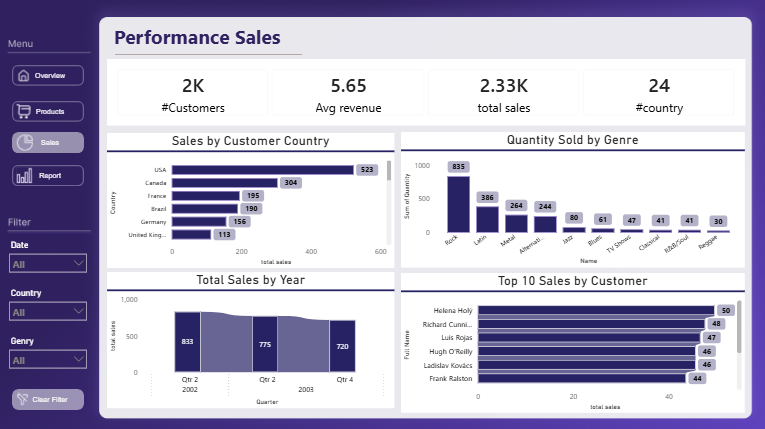

Layout of this report page (visuals, bound fields, positions):
{"tool":"powerbi","page":{"name":"Sales","canvas":[1280,720],"ordinal":2},"visuals":[{"type":"actionButton","box":[19.2,220.8,120,35.4],"z":0},{"type":"actionButton","box":[20,107.7,120,34.6],"z":1000},{"type":"actionButton","box":[20,167.7,120,34.6],"z":2000},{"type":"actionButton","box":[19.2,274.6,120,35.4],"z":3000},{"type":"actionButton","box":[19.2,648.3,120,35],"z":4000},{"type":"textbox","box":[184.3,32.9,358.6,65.7],"z":5000},{"type":"ribbonChart","title":"Total Sales by Year","fields":{"Category":["employee.HireDate.Variation.Date Hierarchy.Year","employee.HireDate.Variation.Date Hierarchy.Quarter"],"Y":["Dax Measures.total sales"]},"box":[179,454,479,227],"z":6000},{"type":"barChart","title":"Sales by Customer Country","fields":{"Category":["customer.Country"],"Y":["Dax Measures.total sales"]},"box":[179,221,479,225],"z":7000},{"type":"columnChart","title":"Quantity Sold by Genre","fields":{"Category":["genre.Name"],"Y":["Sum(invoiceline.Quantity)"]},"box":[668.6,220,572.9,225.7],"z":8000},{"type":"barChart","title":"Top 10 Sales by Customer","fields":{"Category":["customer.Full Name"],"Y":["Dax Measures.total sales"]},"box":[668.6,454.3,572.9,232.9],"z":9000},{"type":"cardVisual","fields":{"Data":["Dax Measures.#Customers","Dax Measures.Avg revenue","Dax Measures.total sales","Dax Measures.#country"]},"box":[178.6,98.6,1064.3,111.4],"z":10000},{"type":"slicer","fields":{"Values":["employee.HireDate.Variation.Date Hierarchy.Year","employee.HireDate.Variation.Date Hierarchy.Month","employee.HireDate.Variation.Date Hierarchy.Day"]},"box":[5,395,150,66.7],"z":11000},{"type":"slicer","fields":{"Values":["invoice.BillingCountry"]},"box":[5.7,475.7,150,67.1],"z":12000},{"type":"slicer","fields":{"Values":["genre.Name"]},"box":[5.7,555.7,150,62.9],"z":13000}]}

Visuals, with their boxes in screenshot pixels (x1, y1, x2, y2), scaled from the page's 1280x720 canvas onto the 765x429 screenshot:
actionButton: rect(11, 132, 83, 153)
actionButton: rect(12, 64, 84, 85)
actionButton: rect(12, 100, 84, 121)
actionButton: rect(11, 164, 83, 185)
actionButton: rect(11, 386, 83, 407)
textbox: rect(110, 20, 324, 59)
"Total Sales by Year" ribbonChart: rect(107, 271, 393, 406)
"Sales by Customer Country" barChart: rect(107, 132, 393, 266)
"Quantity Sold by Genre" columnChart: rect(400, 131, 742, 266)
"Top 10 Sales by Customer" barChart: rect(400, 271, 742, 409)
cardVisual - Dax Measures.#Customers x Dax Measures.Avg revenue: rect(107, 59, 743, 125)
slicer - employee.HireDate.Variation.Date Hierarchy.Year x employee.HireDate.Variation.Date Hierarchy.Month: rect(3, 235, 93, 275)
slicer - invoice.BillingCountry: rect(3, 283, 93, 323)
slicer - genre.Name: rect(3, 331, 93, 369)
